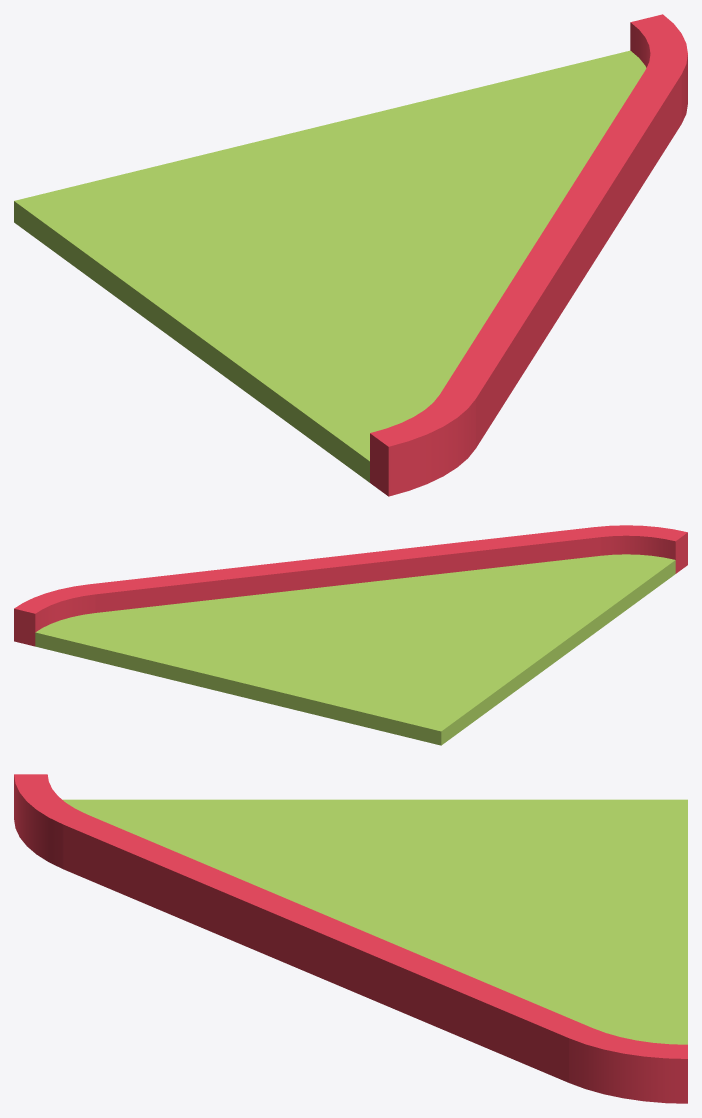
The model's file is skewLargeCornerOpen.fbx.
3 renders of one model, top to bottom at view 1: azimuth 30°, elevation 25°; view 2: azimuth 150°, elevation 25°; view 3: azimuth 270°, elevation 25°, orthographic. The views are drawn at different scales.
Visible parts, largest first — view 1: skewLargeCornerOpen; view 2: skewLargeCornerOpen; view 3: skewLargeCornerOpen.
Part boxes in pixels (<box>): skewLargeCornerOpen: <box>14,14,687,496</box>; skewLargeCornerOpen: <box>14,525,687,745</box>; skewLargeCornerOpen: <box>14,774,687,1103</box>.
Bounding box in the file's own units: 20 × 1.47 × 20.
